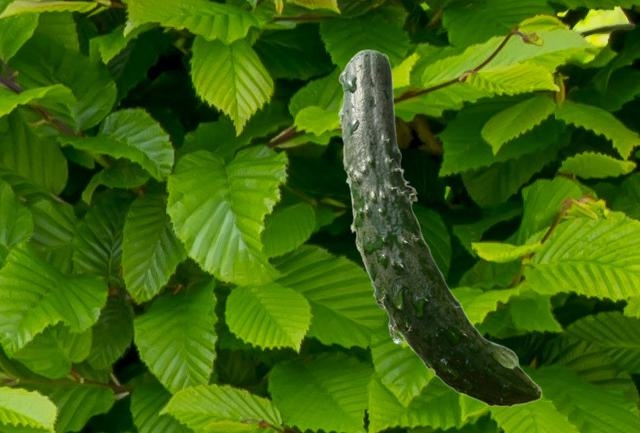cucumber: (337, 49, 541, 406)
